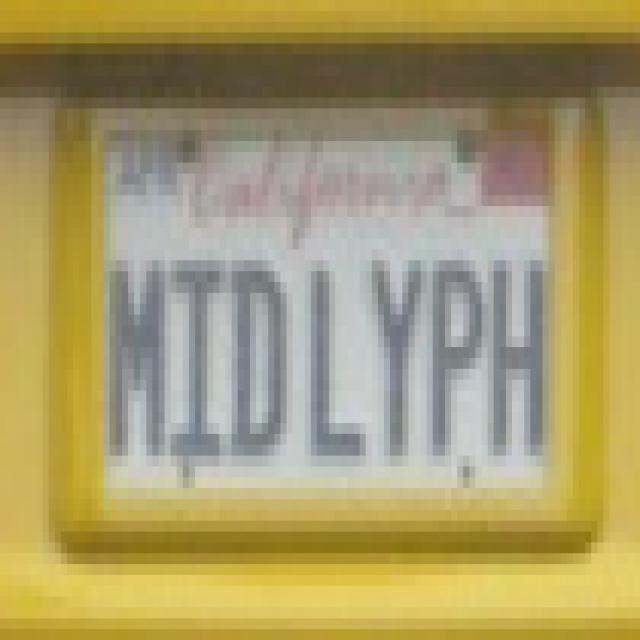D: (224, 242, 289, 466)
H: (488, 247, 551, 476)
I: (167, 248, 221, 468)
L: (299, 242, 366, 474)
M: (102, 246, 167, 464)
P: (426, 246, 486, 474)
Y: (368, 241, 424, 469)
